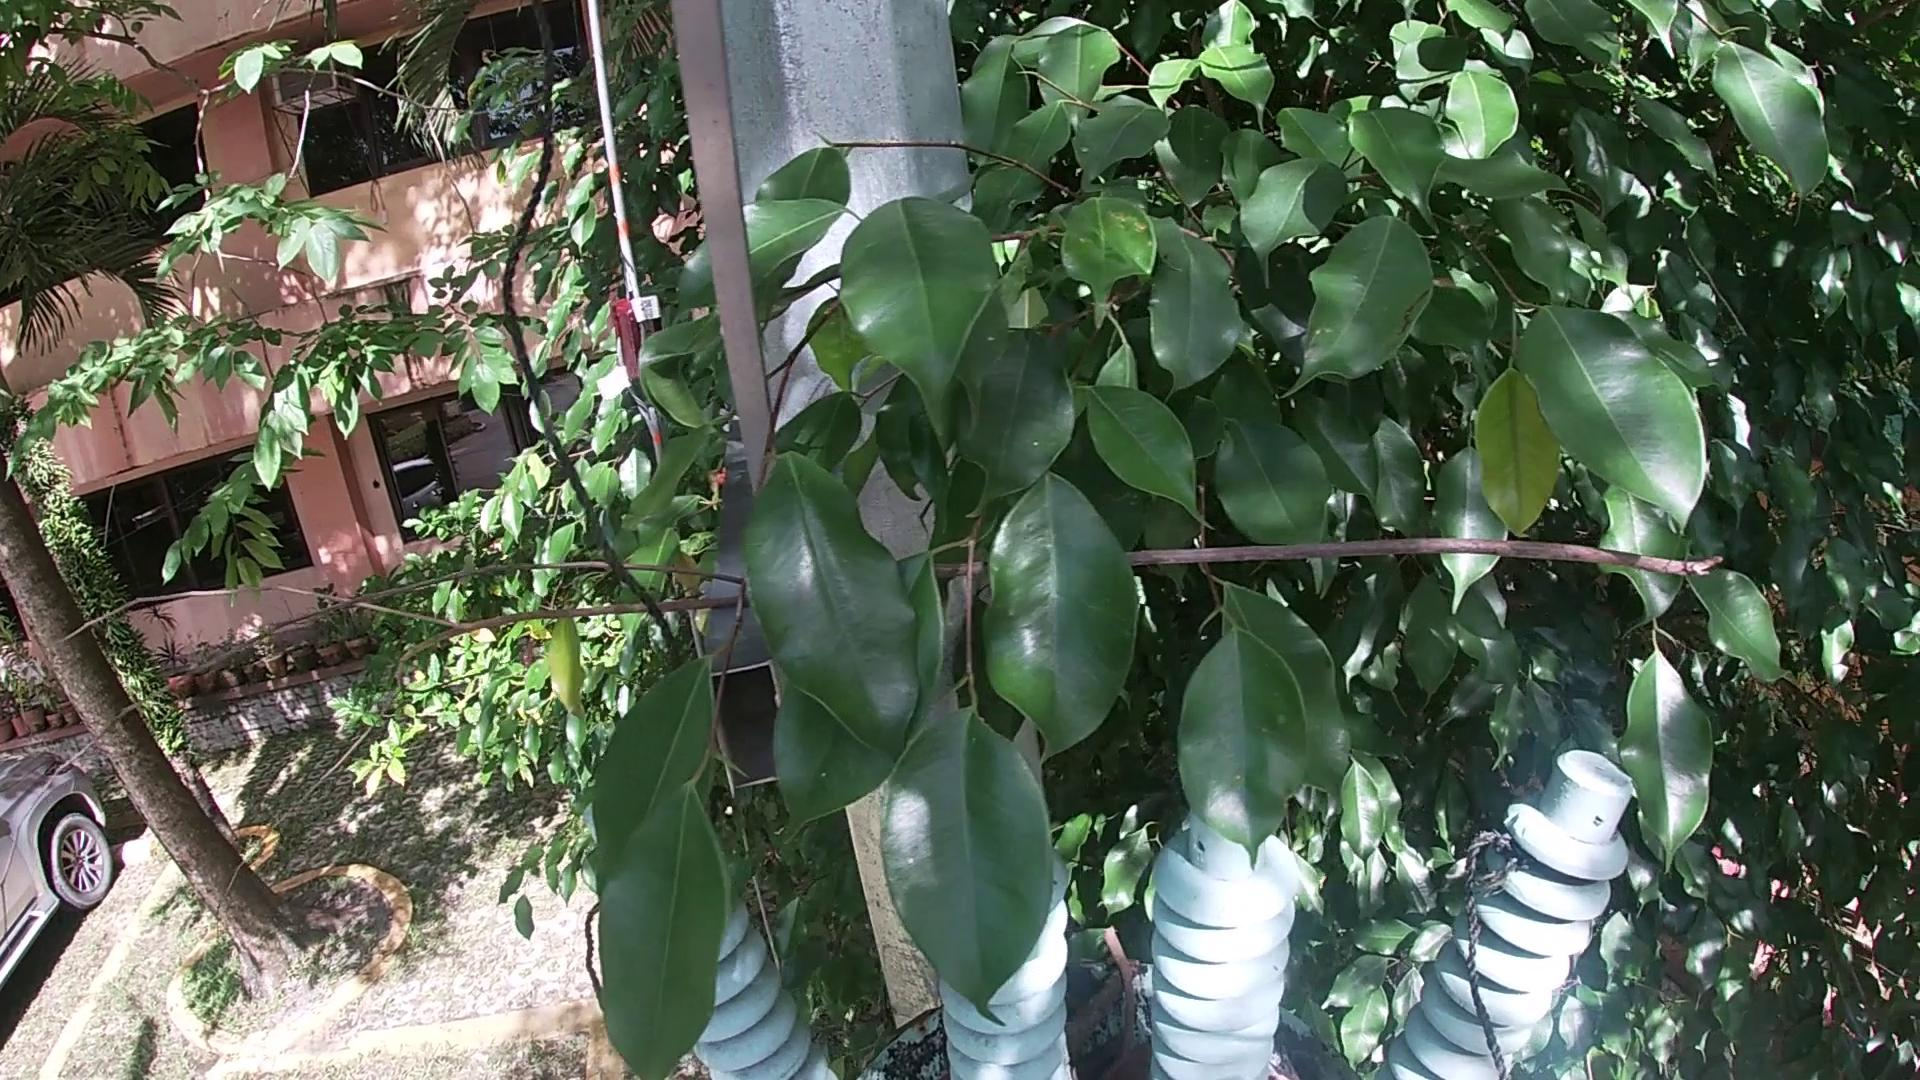tree branch: (1, 535, 1735, 951), (1072, 956, 1143, 1059), (1101, 926, 1142, 1056)
